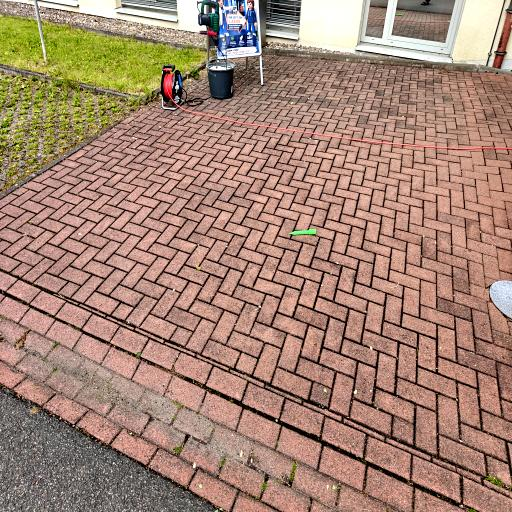Probe-Detection: (289, 229, 316, 236)
